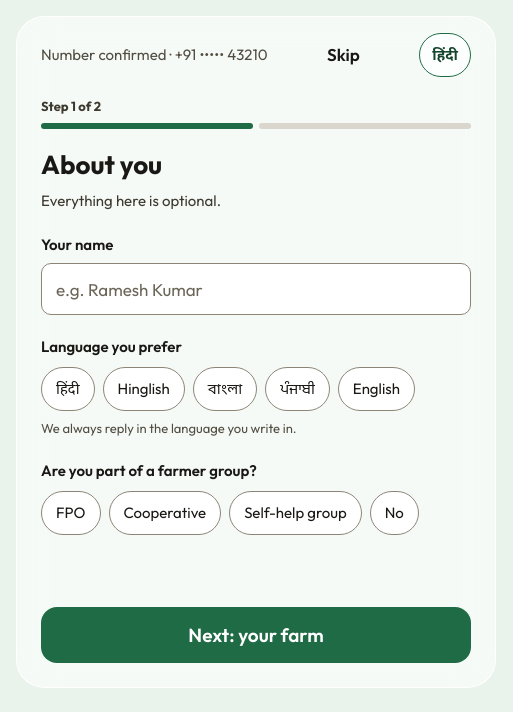
Test case: Back returns from Your farm to About you
Click the button "Next: your farm". click: click(256, 635)
box: [41,607,471,663]
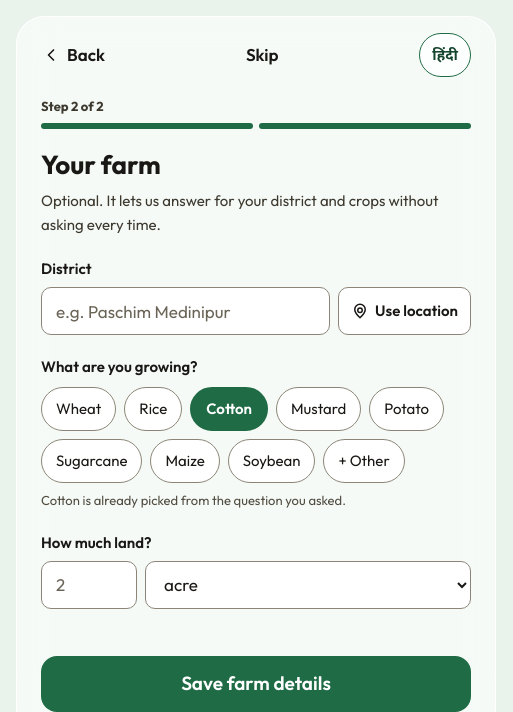
Result: the heading "Your farm" is shown at [41,148,161,180]
Click the button "Back". click: click(73, 55)
box: [41,33,105,77]
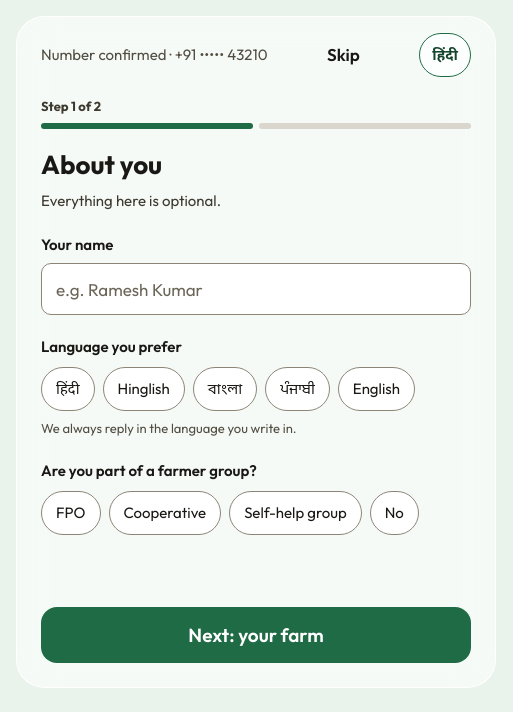
Result: the heading "About you" is shown at [41,148,162,180]
